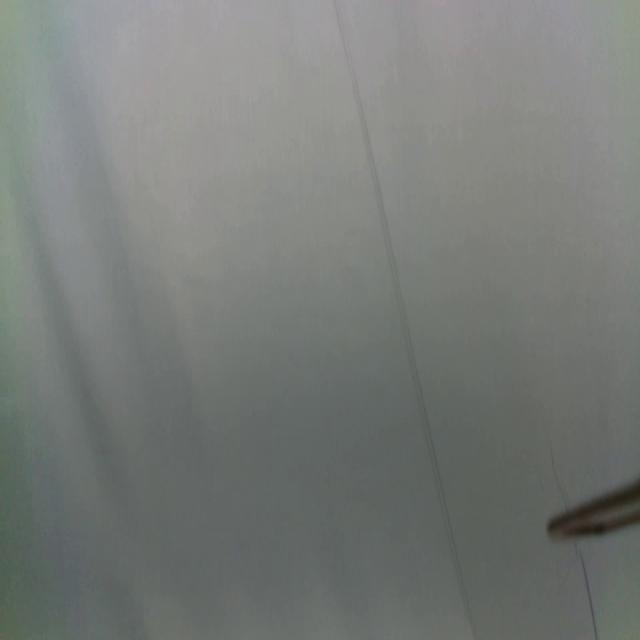crease: (333, 0, 474, 632), (579, 544, 598, 640), (546, 439, 567, 506)
